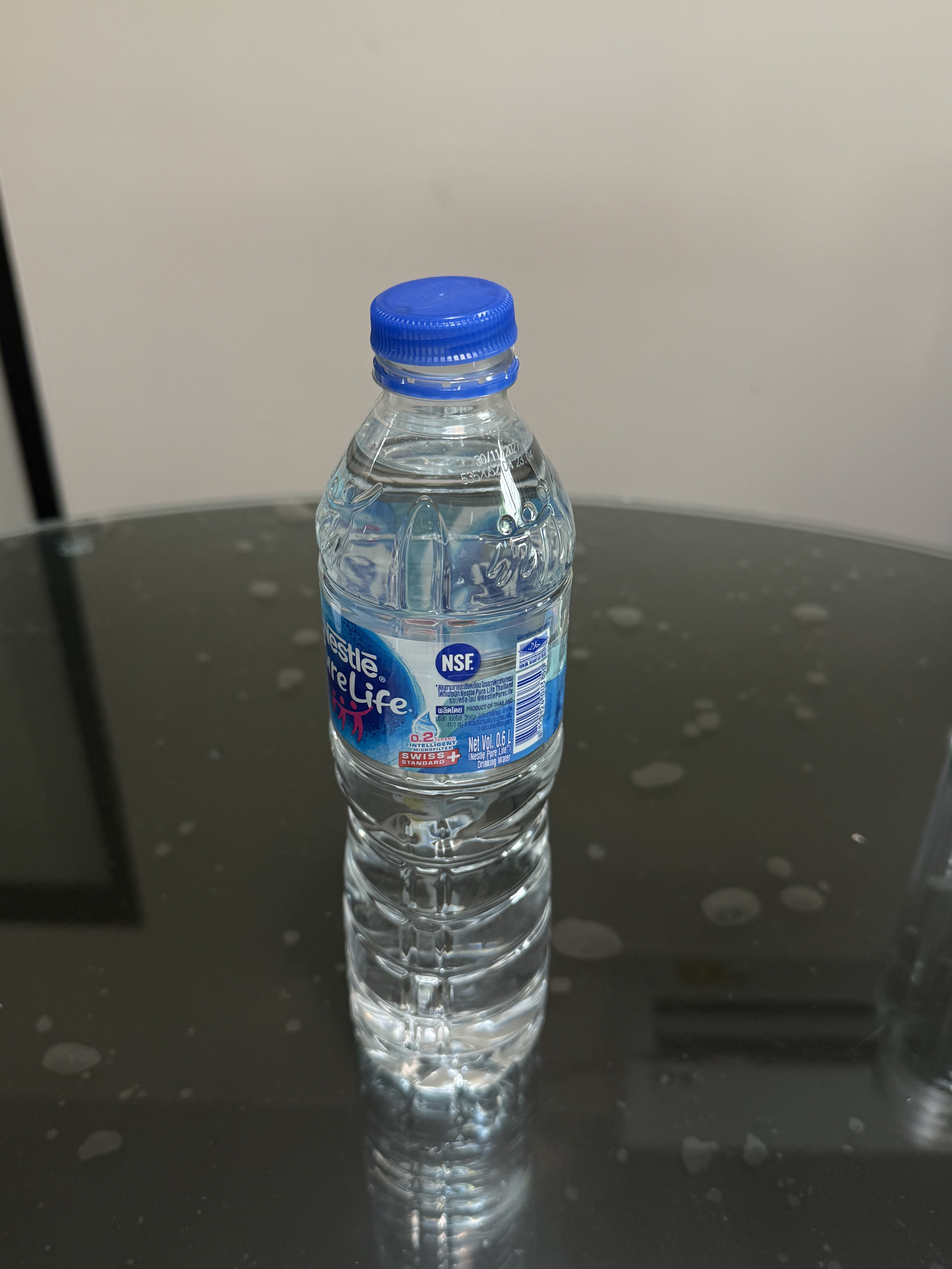half_cap: (363, 270, 523, 398)
